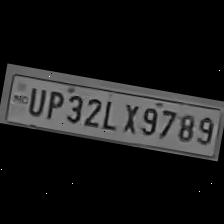2: (79, 92, 104, 129)
3: (61, 89, 84, 125)
7: (155, 106, 177, 141)
8: (172, 108, 196, 144)
9: (192, 112, 217, 148), (134, 102, 158, 136)
L: (97, 96, 120, 132)
P: (42, 86, 65, 122)
U: (23, 82, 47, 117)
X: (116, 99, 140, 135)
